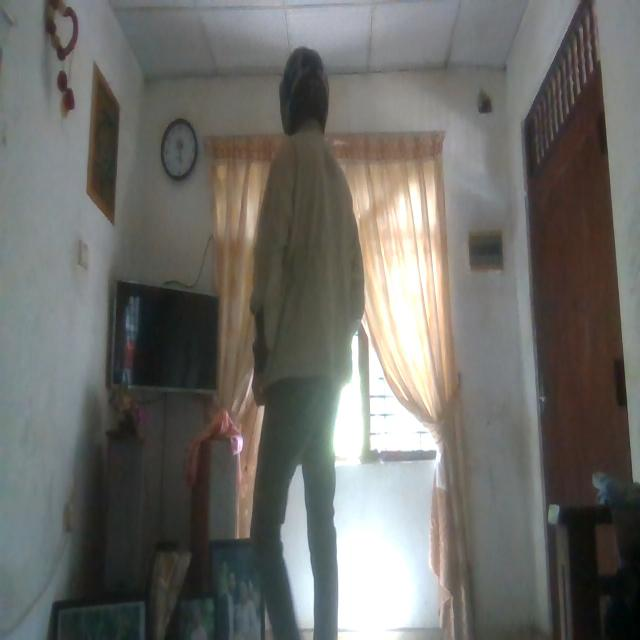Helmet_Wearer: (277, 41, 329, 146)
Jacket_Wearer: (255, 134, 367, 414)
Person: (247, 45, 371, 640)
